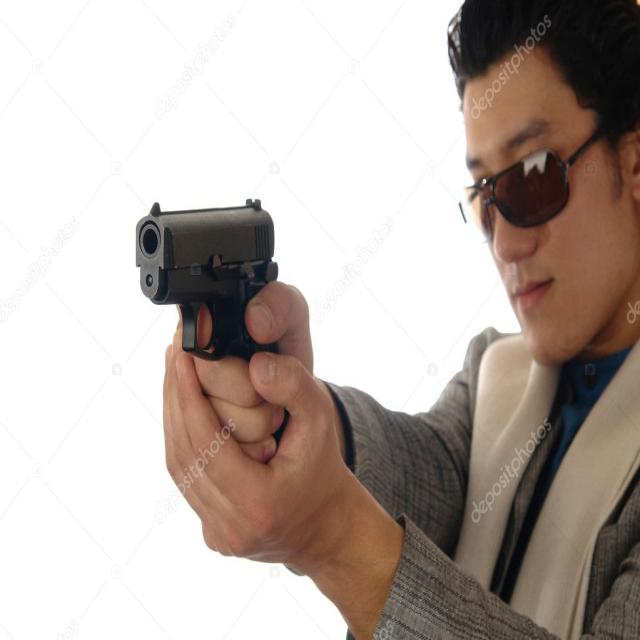HandGun: (135, 202, 279, 361)
